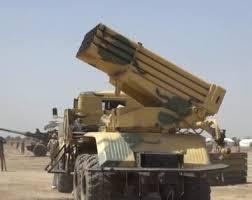MIL_SAM_TEL: (45, 22, 226, 200)
